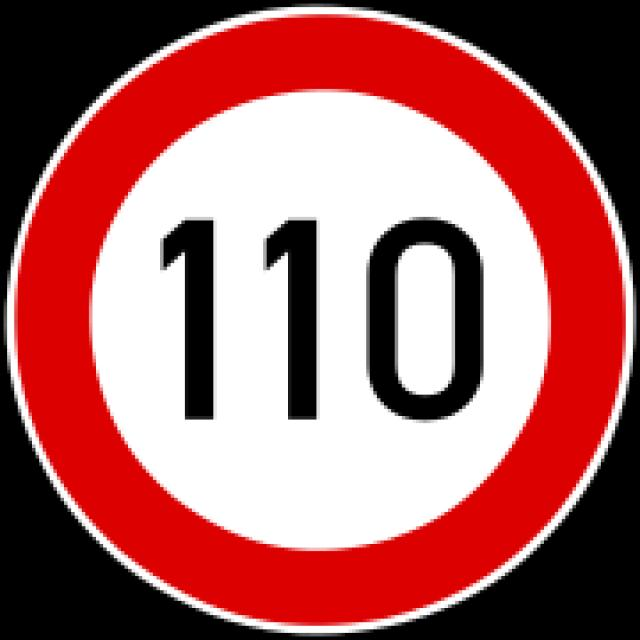Speed Limit -110-: (154, 191, 504, 443)
